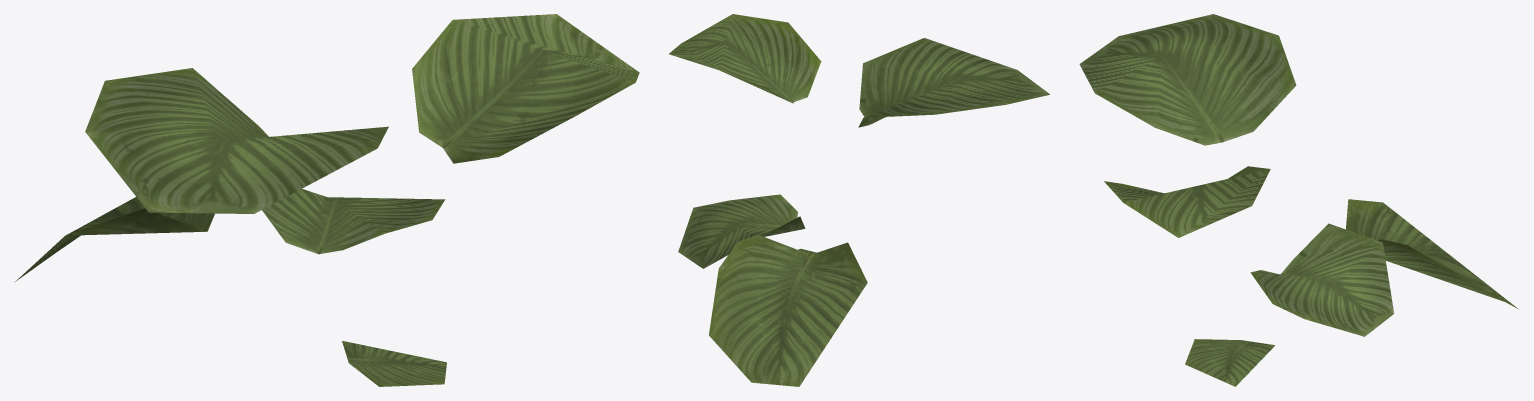
File: Vine b LOD2.fbx
3 renders of one model, left to right at view 1: azimuth 30°, elevation 25°; view 2: azimuth 150°, elevation 25°; view 3: azimuth 270°, elevation 25°, orthographic. The views are drawn at different scales.
Visible parts, largest first — view 1: calathea_orbifolia_01_c.002; view 2: calathea_orbifolia_01_c.002; view 3: calathea_orbifolia_01_c.002.
Part boxes in pixels (x1,y1,x2,y2): calathea_orbifolia_01_c.002: [15, 14, 639, 386]; calathea_orbifolia_01_c.002: [669, 14, 1049, 386]; calathea_orbifolia_01_c.002: [1079, 14, 1517, 386].
Size of the model in its own units: 36.46 by 21.95 by 36.22.
